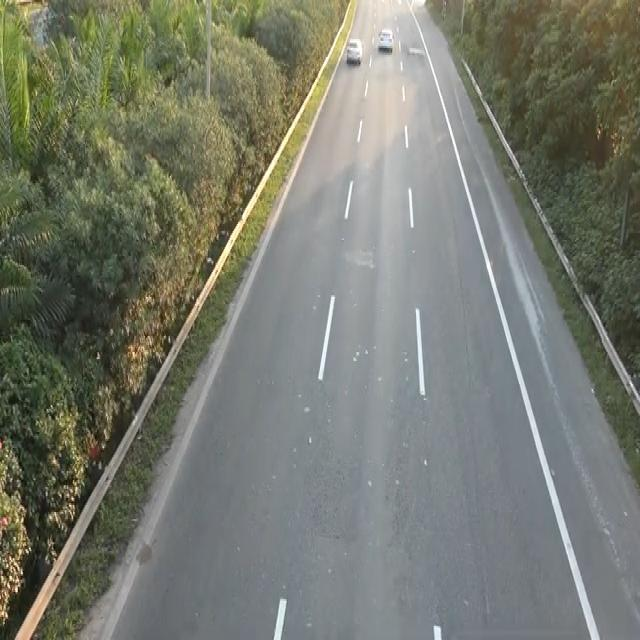bus: (375, 23, 398, 61), (345, 36, 363, 66)
